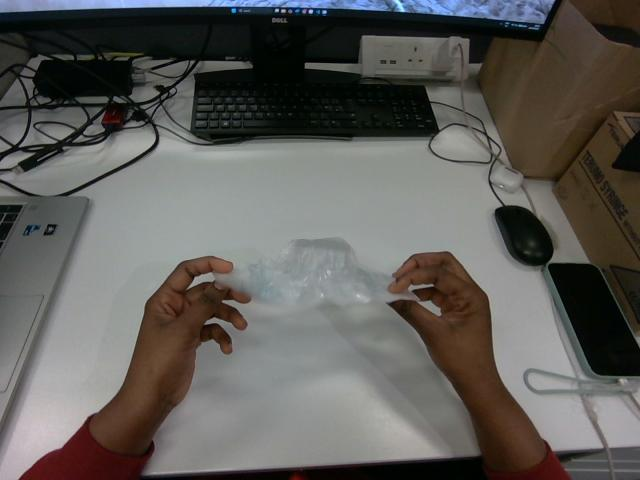gallipot: (215, 238, 417, 306)
